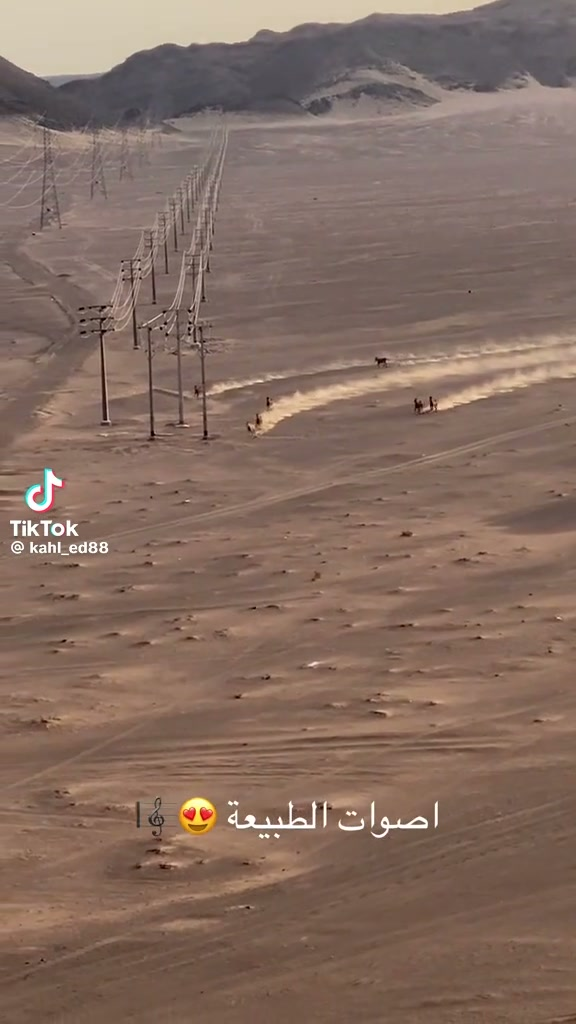animal: (414, 399, 423, 414), (375, 356, 387, 366), (246, 422, 255, 435), (266, 396, 273, 409), (255, 413, 261, 427), (194, 384, 200, 397)
vehicle_track: (107, 416, 575, 540), (110, 416, 575, 538)
